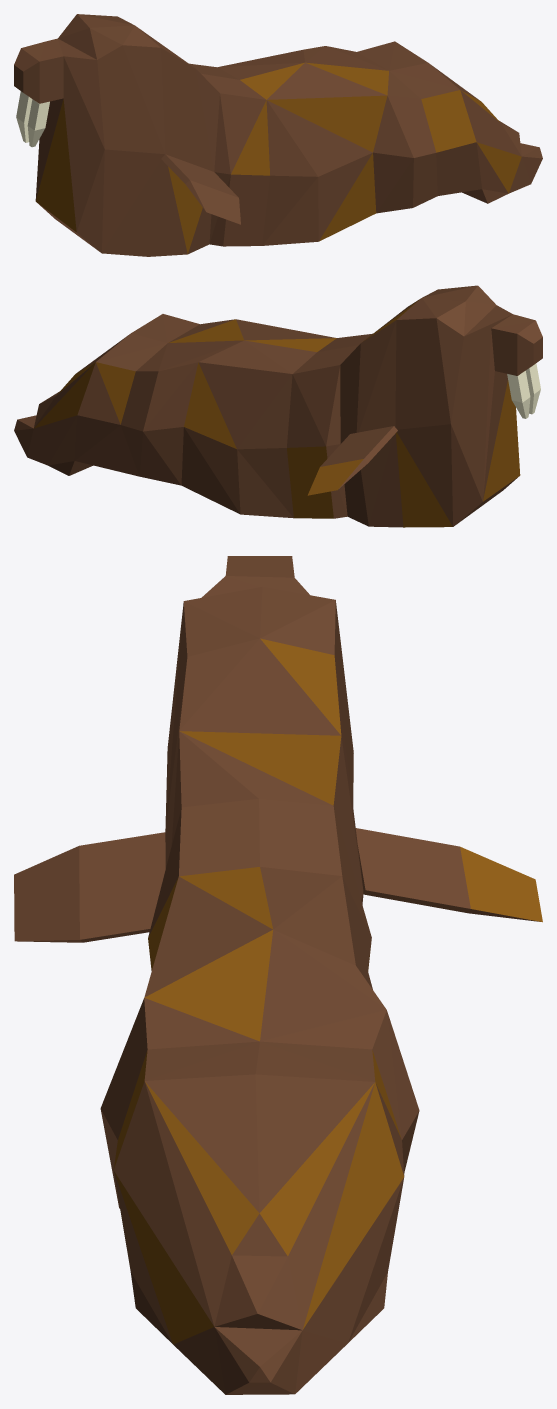
The model's file is Walfish.fbx.
3 renders of one model, top to bottom at view 1: azimuth 30°, elevation 25°; view 2: azimuth 150°, elevation 25°; view 3: azimuth 270°, elevation 25°, orthographic. The views are drawn at different scales.
Parts seen in each view (by area): view 1: Walrus; view 2: Walrus; view 3: Walrus.
Boxes of the visible parts, bbox=[...] form: Walrus: bbox=[14, 14, 542, 256]; Walrus: bbox=[14, 285, 542, 527]; Walrus: bbox=[14, 556, 542, 1394].
Size of the model in its own units: 321 by 150 by 162.
